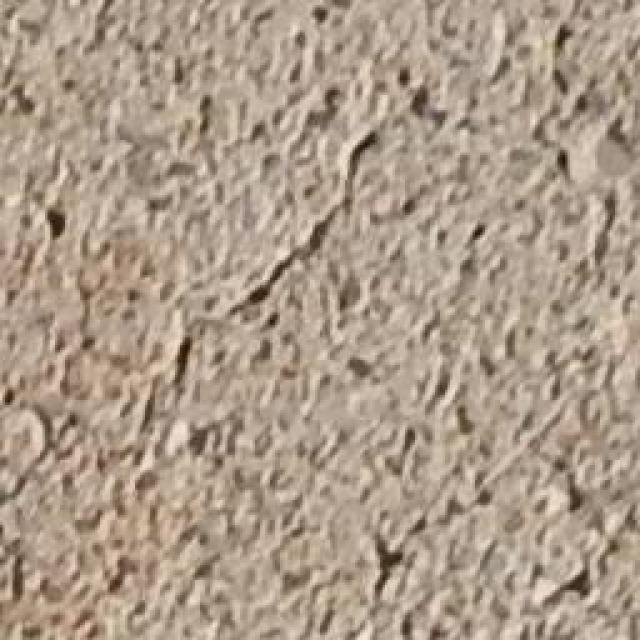concrete-crack: (131, 127, 383, 417), (3, 400, 82, 509)
